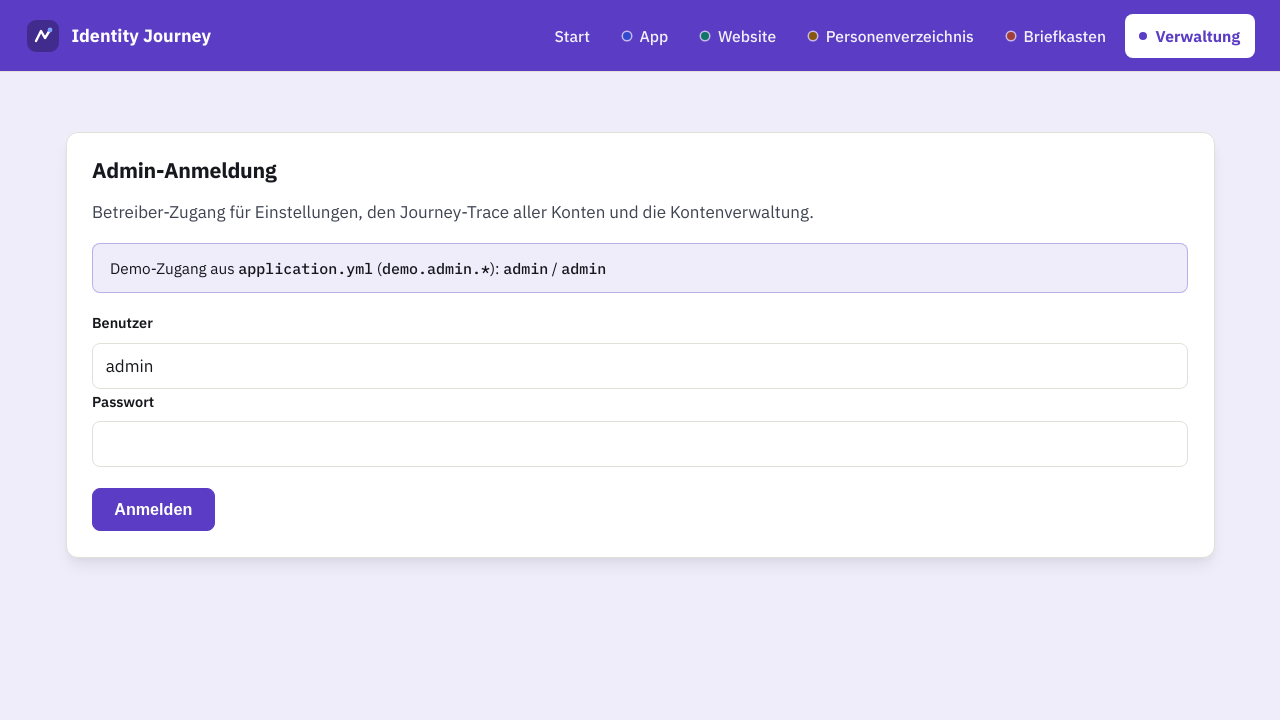
Test case: AdminApp › shows the active sessions in the sessions tab
Type "admin" into the password field labelled "Passwort" at {"x": 640, "y": 444}, box [92,421,1188,467]
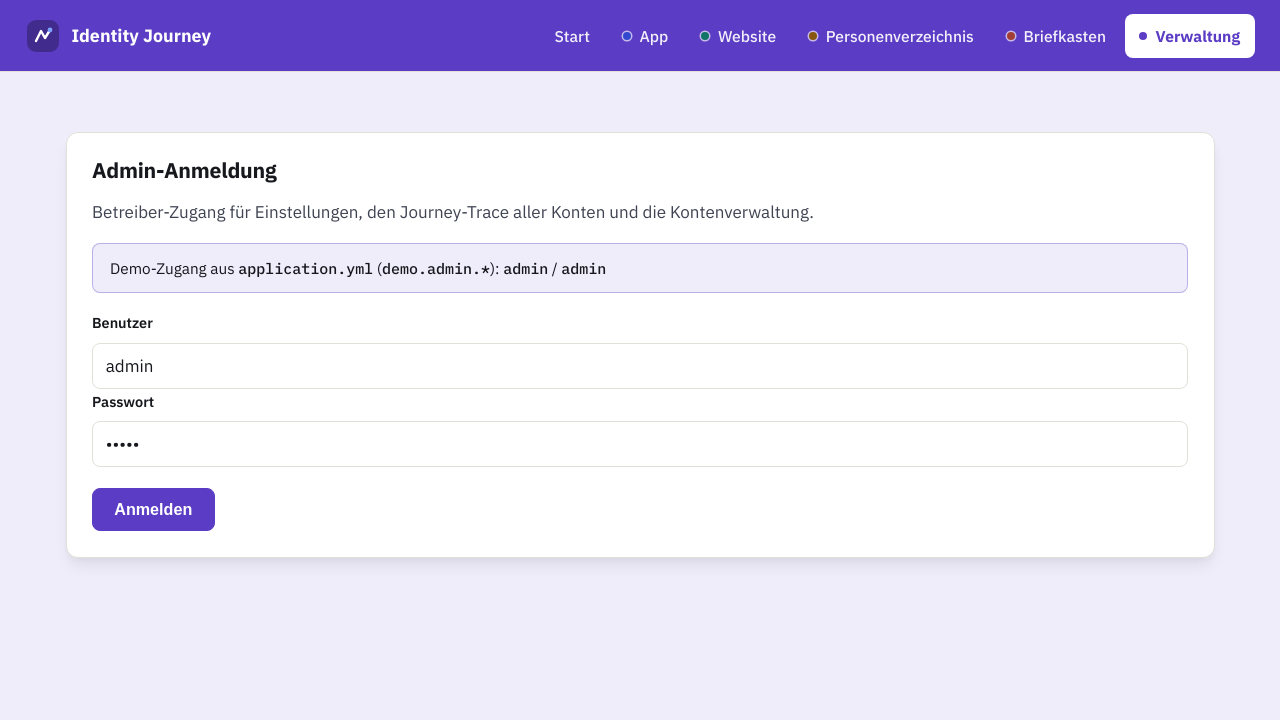
Click the button "Anmelden" at {"x": 153, "y": 510}, box [92,488,214,532]
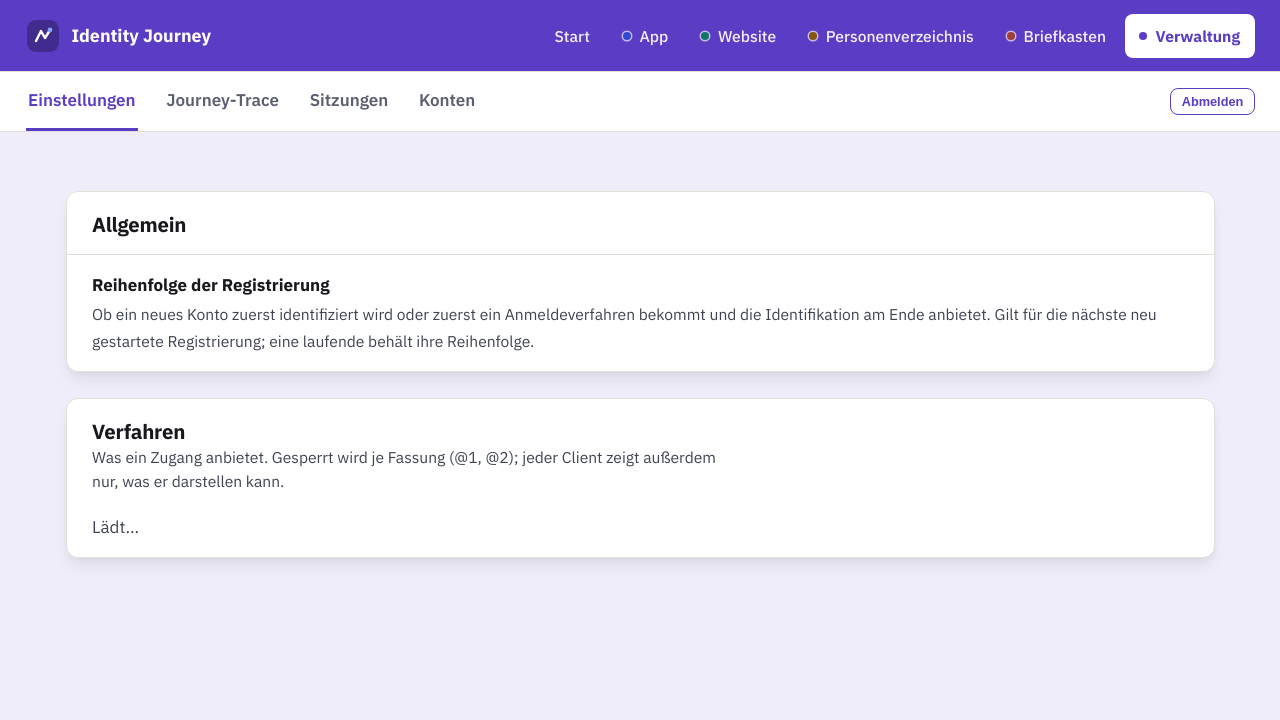
Now the tab "Sitzungen" is shown
Click the tab "Sitzungen" at {"x": 349, "y": 102}, box [307,72,391,131]
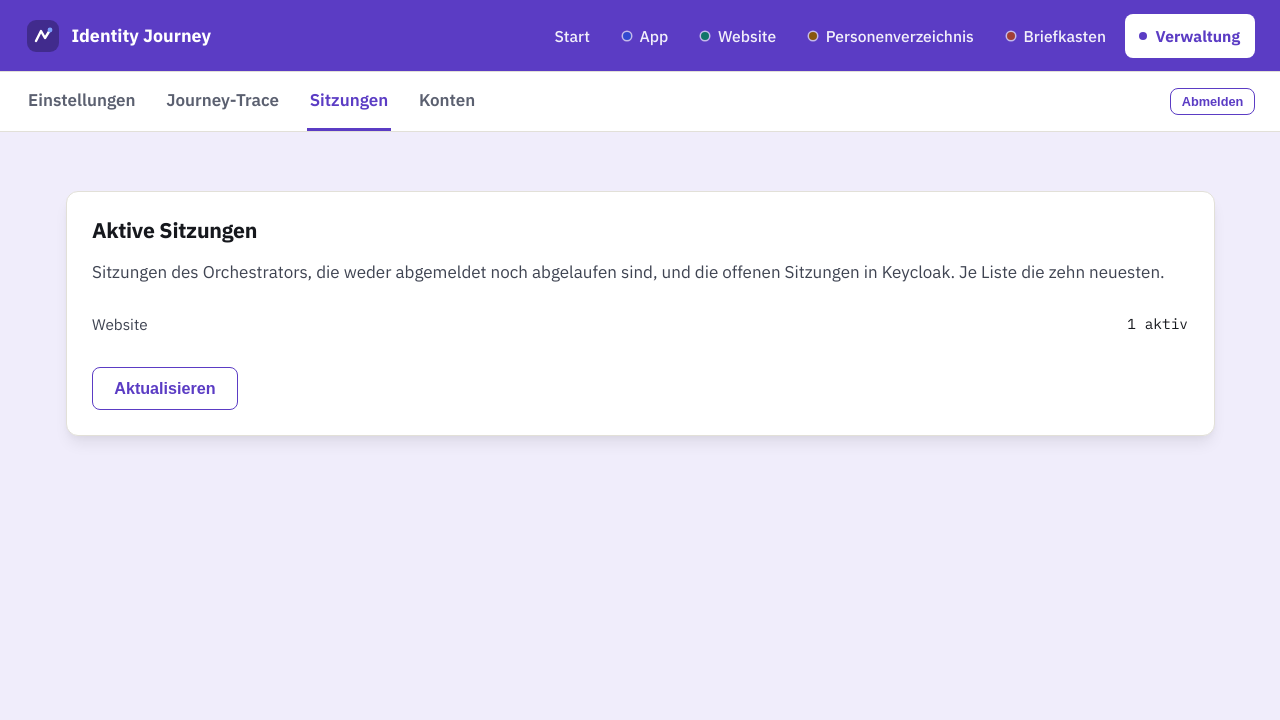
Now the text "1 aktiv" is shown, box [1127,311,1188,337]
Now the button "Aktualisieren" is shown, box [92,367,238,410]
